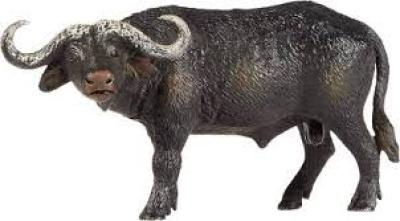buffalo: (2, 1, 398, 218)
